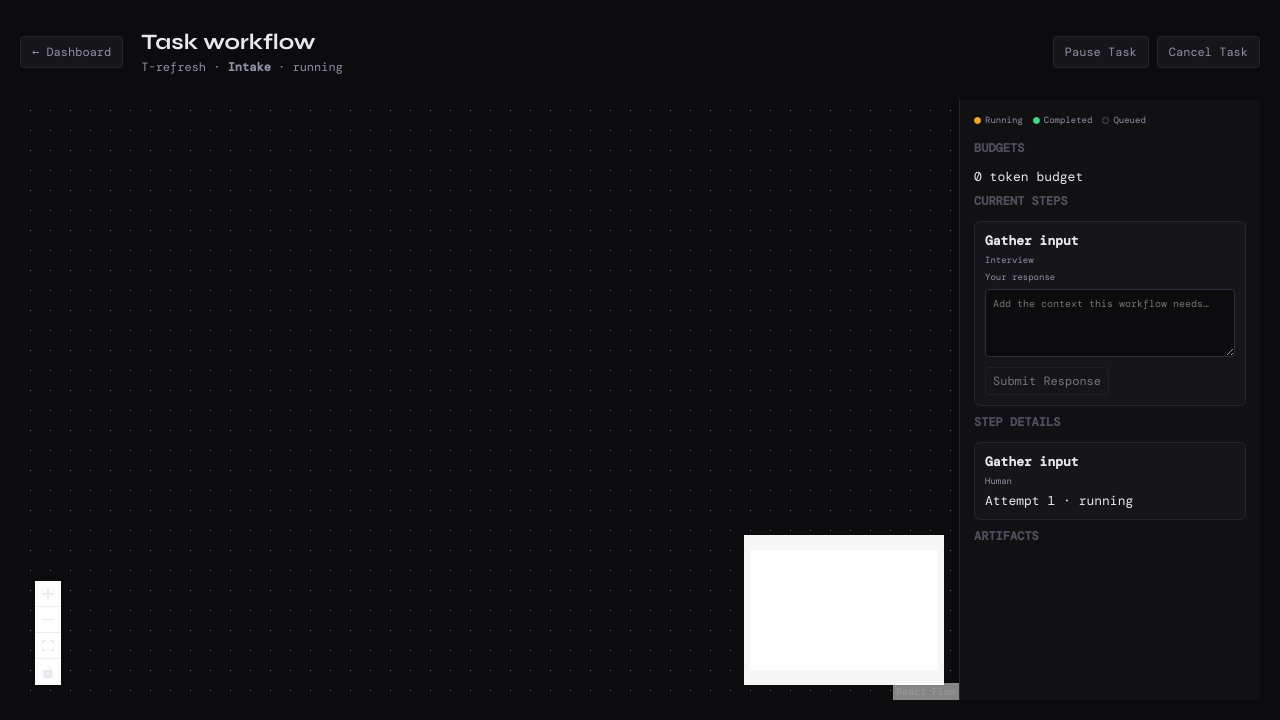
Test: LiveWorkflowGraph › refreshes enriched actionable steps after submitting interview input
In the text box labelled "Your response": (1110, 323) [985,289,1235,357], type "Ready for review"
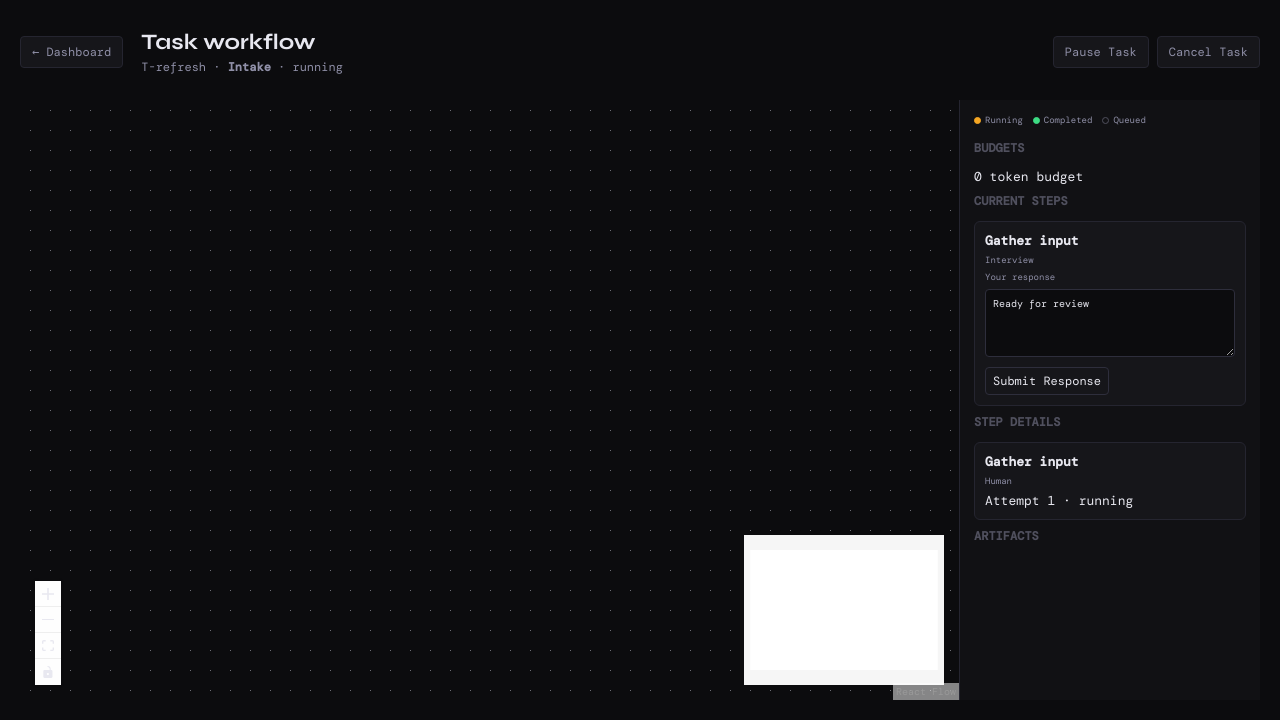
Click the button "Submit response": (1047, 381) [985,367,1109,395]
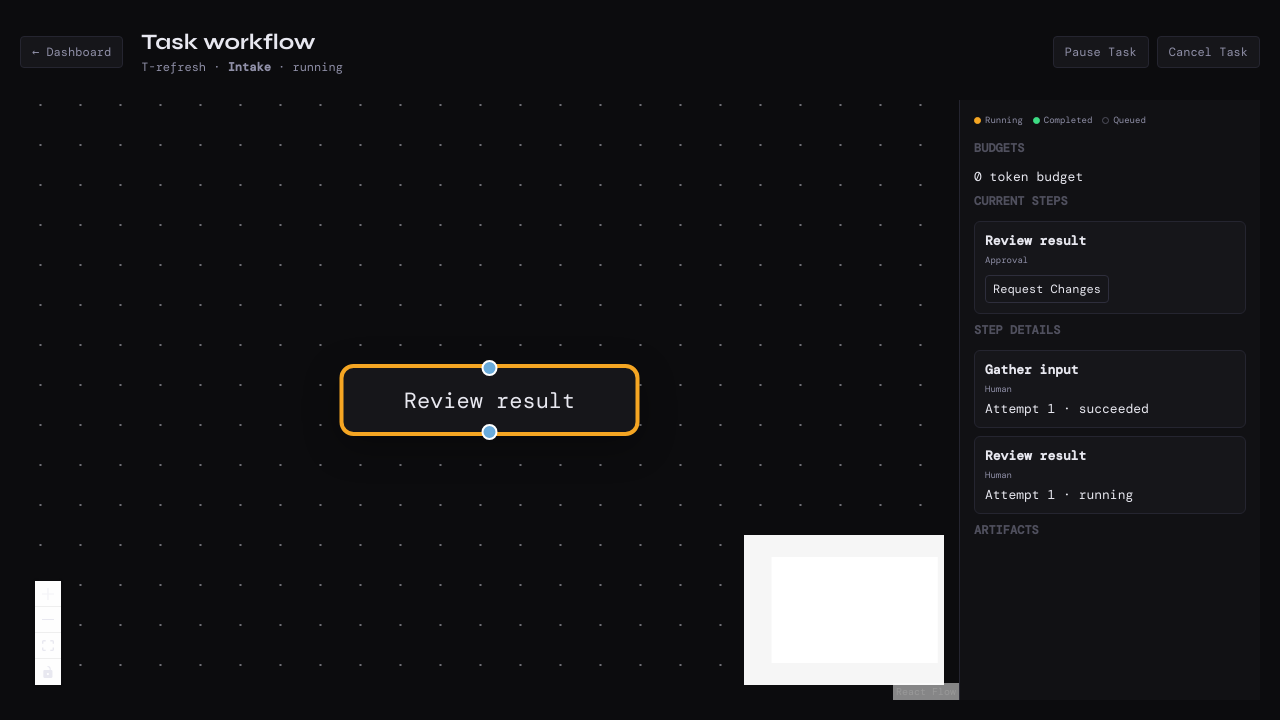
Result: the button with aria-label "Review result: Request changes" is shown at [985,275,1109,303]
Result: the label labelled "Your response" is gone
